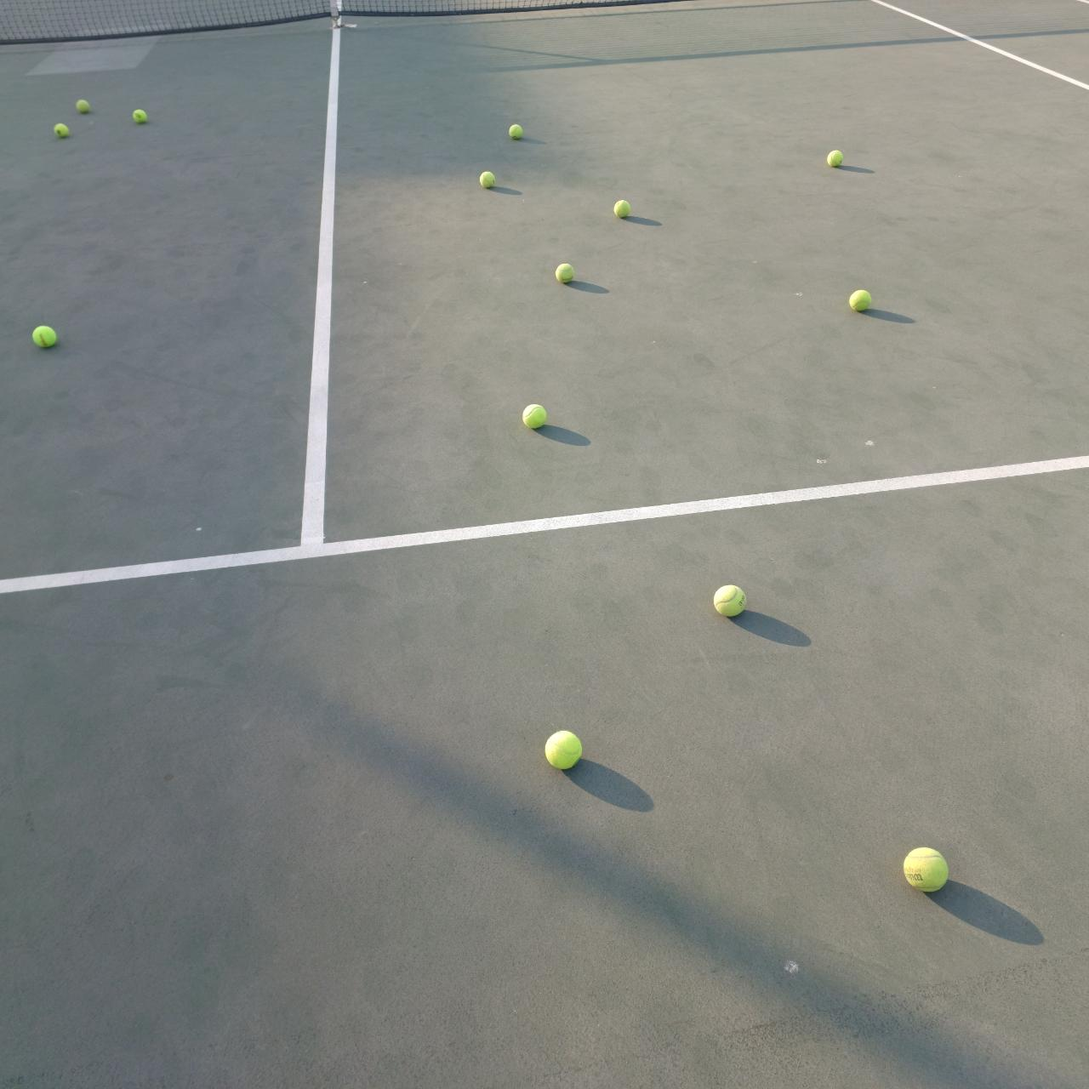tennis-ball: (901, 844, 949, 892), (543, 727, 583, 770), (711, 581, 746, 618), (31, 322, 58, 349), (521, 401, 547, 429), (847, 287, 871, 311), (554, 260, 574, 283), (477, 168, 495, 189), (612, 197, 630, 218), (825, 147, 843, 167), (52, 121, 70, 138), (507, 122, 522, 140), (131, 107, 147, 123), (75, 97, 90, 113)
